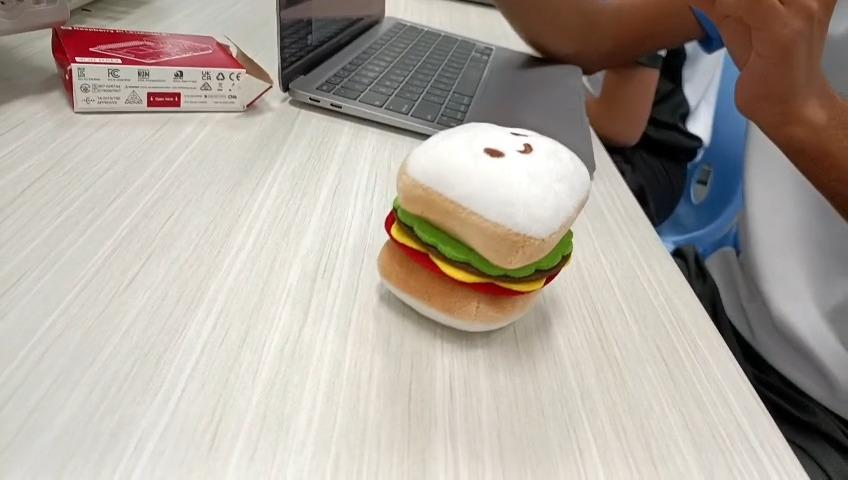objects: (376, 122, 594, 338)
